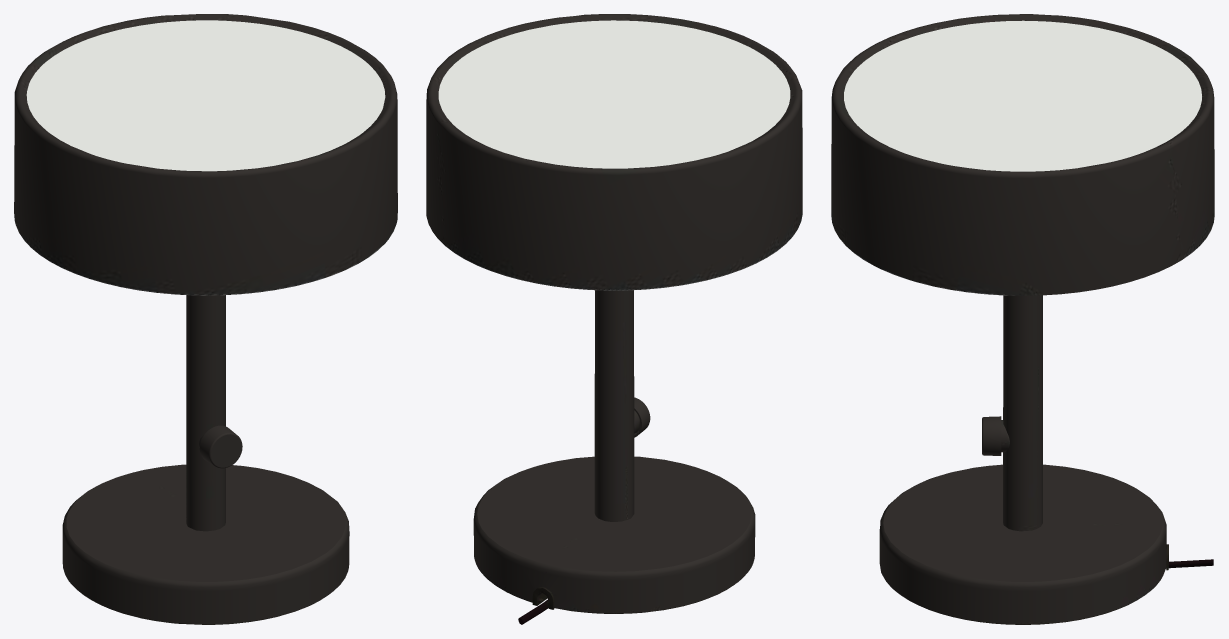
The model's file is nymane_lampa_stoowa_20593072.glb.
3 views of the same model, side by side, from view 1: azimuth 30°, elevation 25°; view 2: azimuth 150°, elevation 25°; view 3: azimuth 270°, elevation 25° (orthographic).
Parts seen in each view (by area): view 1: nymane_lampa_stoowa_20593072; view 2: nymane_lampa_stoowa_20593072; view 3: nymane_lampa_stoowa_20593072.
Part boxes in pixels (x1,y1,x2,y2): nymane_lampa_stoowa_20593072: (14,14,397,624); nymane_lampa_stoowa_20593072: (426,14,802,624); nymane_lampa_stoowa_20593072: (831,14,1214,624).
Size of the model in its own units: 0.2402 by 0.3287 by 0.2401.
5 materials, 5 textured.
